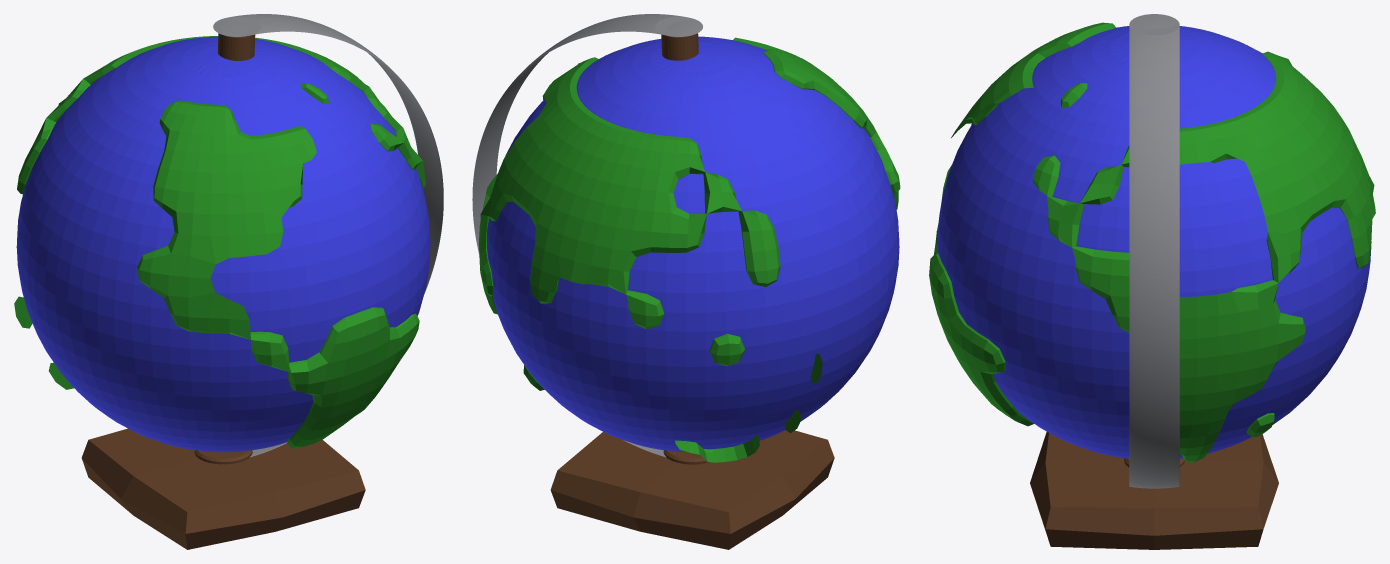
File: world.glb
3 renders of one model, left to right at view 1: azimuth 30°, elevation 25°; view 2: azimuth 150°, elevation 25°; view 3: azimuth 270°, elevation 25°, orthographic. The views are drawn at different scales.
Parts seen in each view (by area): view 1: globo, elem_staticos; view 2: globo, elem_staticos; view 3: globo, elem_staticos.
Boxes of the visible parts, left/top/right/bottom form: globo: left=14, top=36, right=430, bottom=452; elem_staticos: left=81, top=14, right=443, bottom=549; globo: left=478, top=36, right=900, bottom=462; elem_staticos: left=472, top=14, right=834, bottom=549; globo: left=929, top=22, right=1375, bottom=462; elem_staticos: left=1030, top=14, right=1278, bottom=549.
Size of the model in its own units: 2.66 by 3.05 by 2.52.
